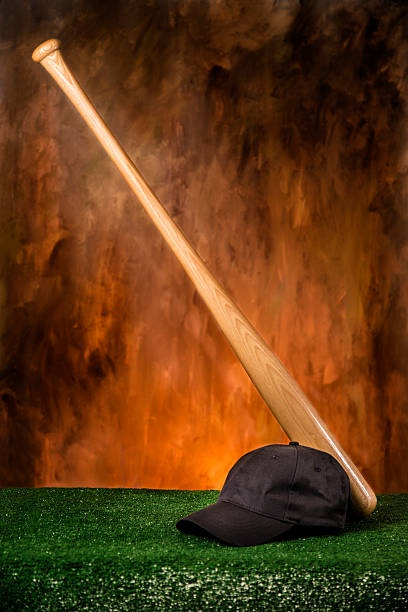bita: (32, 47, 372, 519)
